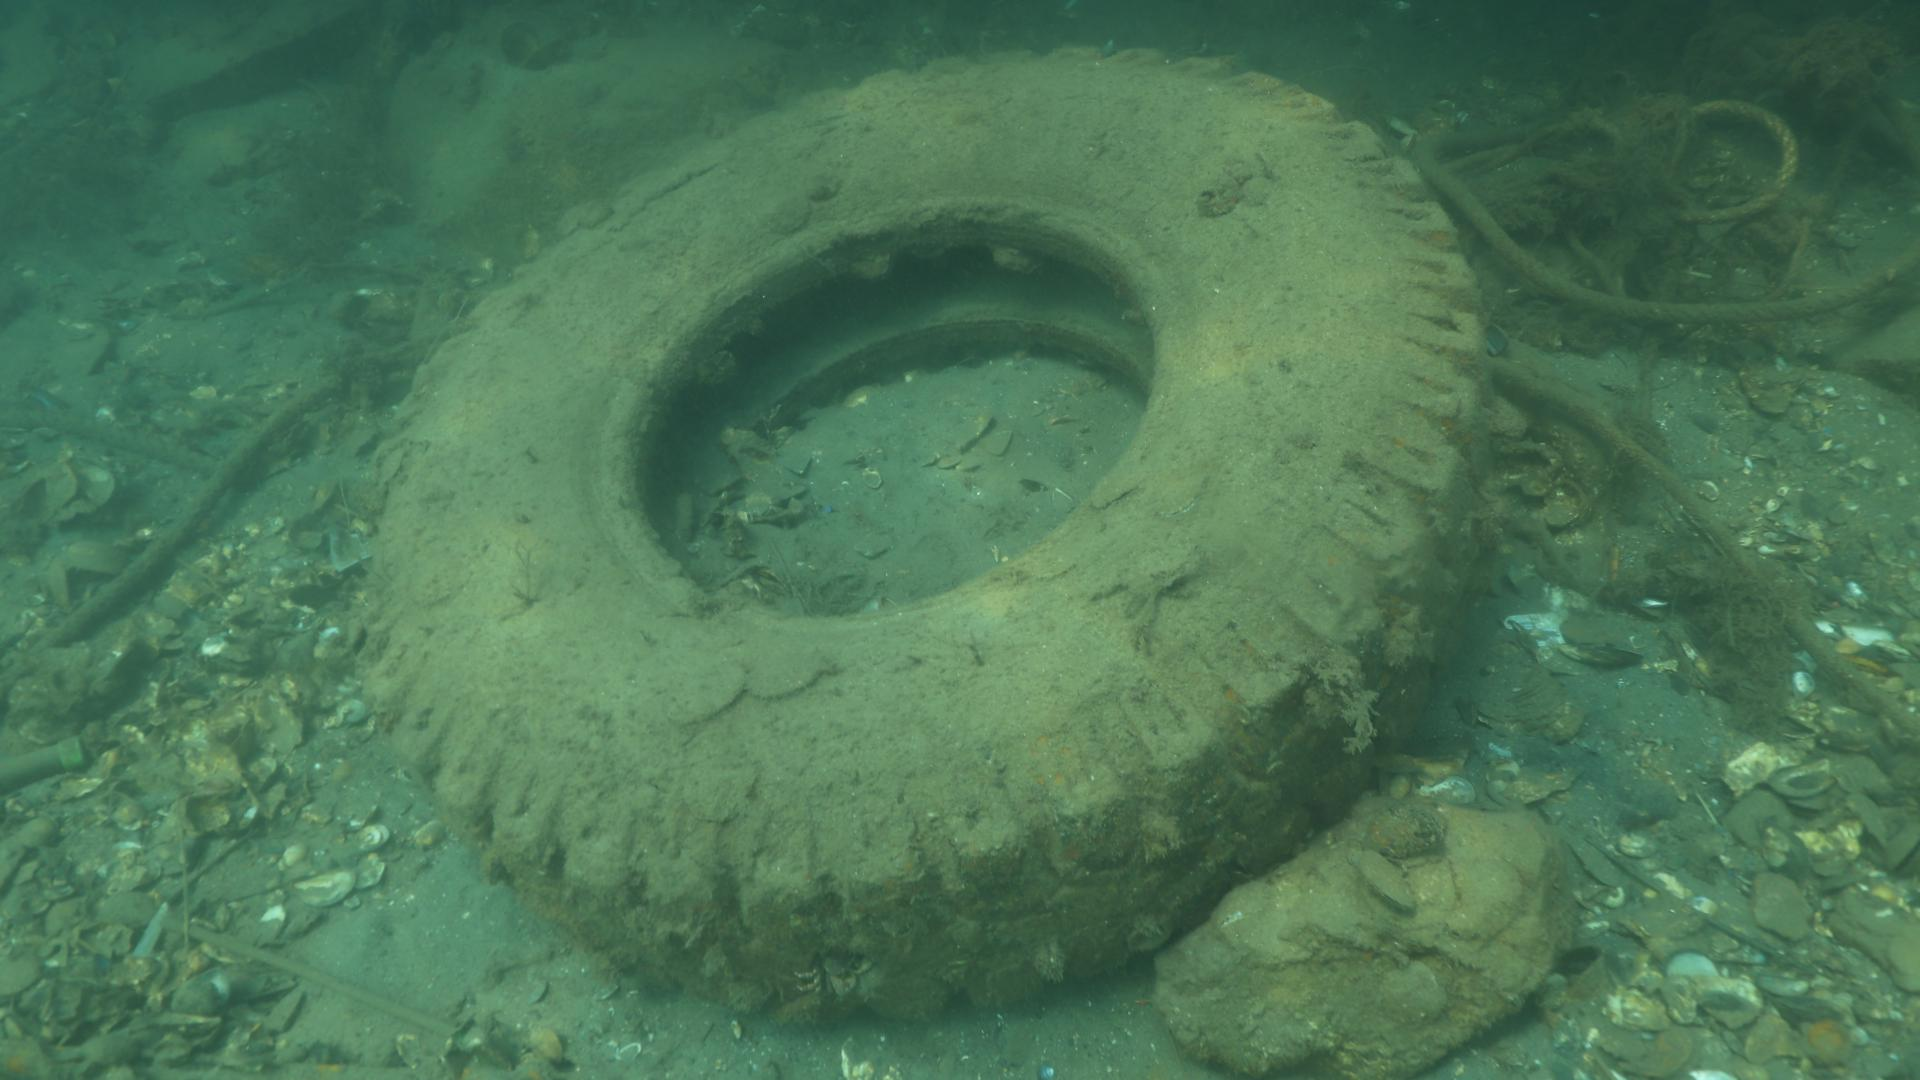tire: (342, 40, 1491, 1019)
